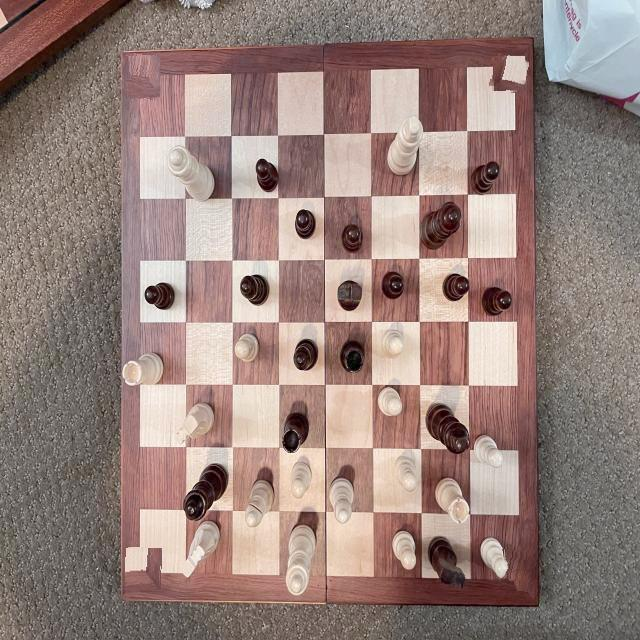chess-table-corners: (502, 544, 537, 591), (125, 548, 162, 590), (126, 55, 160, 99), (490, 55, 527, 93)
